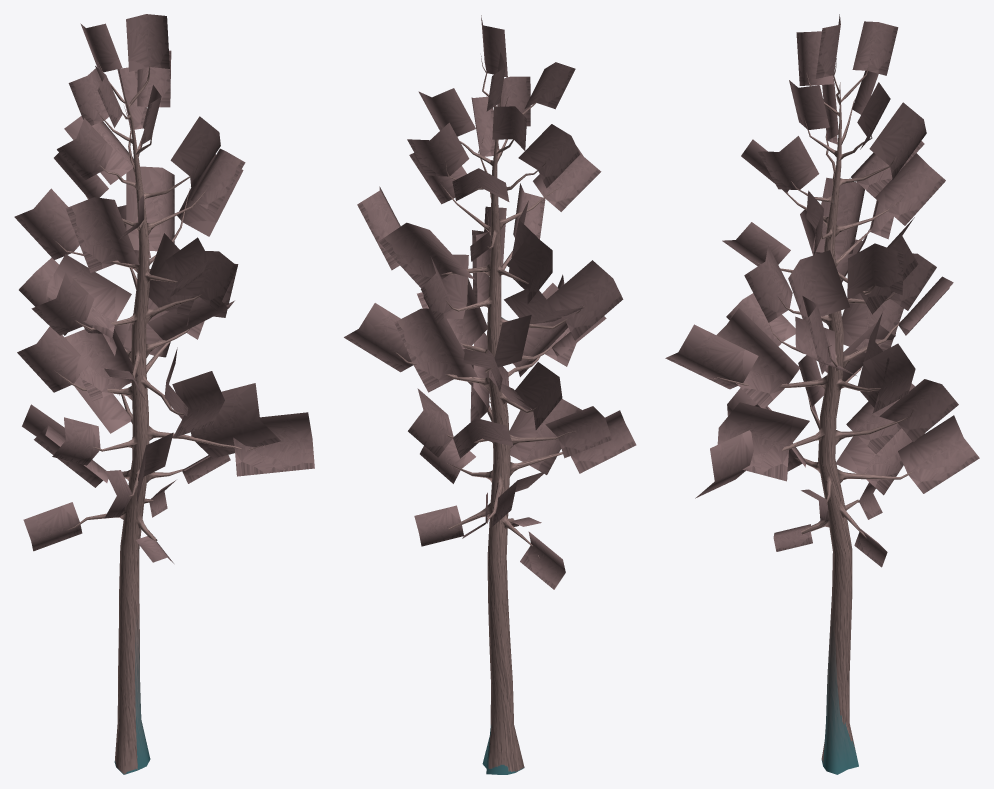
3 renders of one model, left to right at view 1: azimuth 30°, elevation 25°; view 2: azimuth 150°, elevation 25°; view 3: azimuth 270°, elevation 25°, orthographic.
Parts seen in each view (by area): view 1: submesh_1, submesh_0; view 2: submesh_1, submesh_0; view 3: submesh_1, submesh_0.
Boxes of the visible parts, box(x1,y1,x2,y2) form: submesh_1: box(14, 14, 314, 563); submesh_0: box(53, 59, 266, 774); submesh_1: box(344, 15, 636, 589); submesh_0: box(396, 56, 583, 774); submesh_1: box(665, 14, 979, 567); submesh_0: box(708, 58, 912, 774).
Size of the model in its own units: 3.42 by 10.41 by 3.95.
2 materials, 2 textured.
